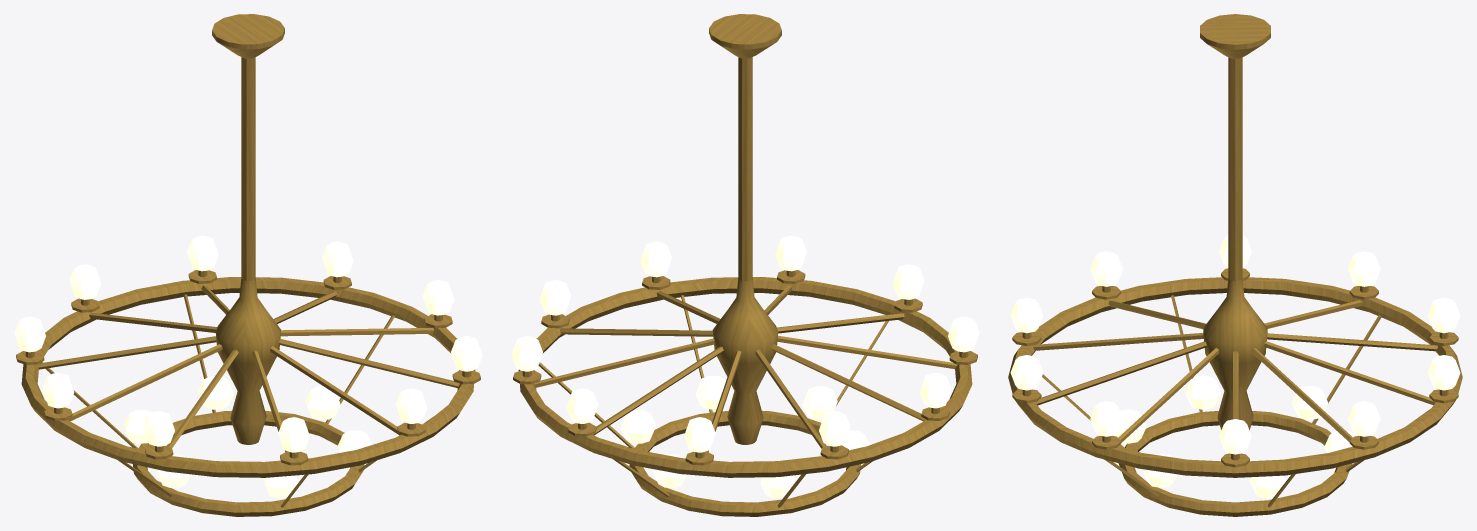
The model's file is lustre-60.glb.
The picture shows the model from 3 angles, left to right: view 1: azimuth 30°, elevation 25°; view 2: azimuth 150°, elevation 25°; view 3: azimuth 270°, elevation 25°; orthographic projection.
Parts seen in each view (by area): view 1: aro, corpo, aro-de-baixo, haste, canopla, braco.009, braco.004, braco.005, braco.008, braco, gota, chama.009 (+16 smaller); view 2: aro, corpo, aro-de-baixo, haste, canopla, braco.001, braco.006, braco.005, braco, braco.002, gota, gota.004 (+15 smaller); view 3: aro, aro-de-baixo, corpo, haste, canopla, braco.008, braco.002, braco.007, braco.003, gota.003, chama.003, chama.007 (+14 smaller).
Part boxes in pixels (x1,y1,x2,y2): aro: (21, 277, 475, 477); corpo: (215, 278, 281, 444); aro-de-baixo: (133, 410, 364, 516); haste: (241, 57, 255, 282); canopla: (212, 14, 284, 58); braco.009: (279, 338, 459, 387); braco.004: (36, 336, 216, 369); braco.005: (67, 344, 222, 421); braco.008: (270, 346, 400, 435); braco: (280, 327, 434, 336); gota: (305, 386, 340, 419); chama.009: (451, 336, 482, 371); aro: (518, 277, 972, 477); corpo: (712, 278, 778, 444); aro-de-baixo: (629, 410, 860, 516); haste: (738, 57, 752, 282); canopla: (709, 14, 781, 58); braco.001: (534, 338, 714, 387); braco.006: (777, 335, 957, 368); braco.005: (771, 344, 926, 421); braco: (560, 328, 713, 336); braco.002: (593, 346, 723, 435); gota: (621, 409, 655, 443); gota.004: (802, 386, 837, 419); aro: (1008, 277, 1462, 477); aro-de-baixo: (1118, 411, 1352, 516); corpo: (1203, 279, 1267, 429); haste: (1228, 57, 1242, 280); canopla: (1200, 14, 1270, 58); braco.008: (1035, 341, 1206, 405); braco.002: (1264, 341, 1435, 405); braco.007: (1033, 333, 1203, 350); braco.003: (1267, 333, 1437, 351); gota.003: (1185, 375, 1221, 409); chama.003: (1427, 297, 1460, 333); chama.007: (1010, 297, 1043, 333).
Bounding box in the file's own units: 1.29 × 1.33 × 1.24.
Materials: 2 (1 with a texture image).
